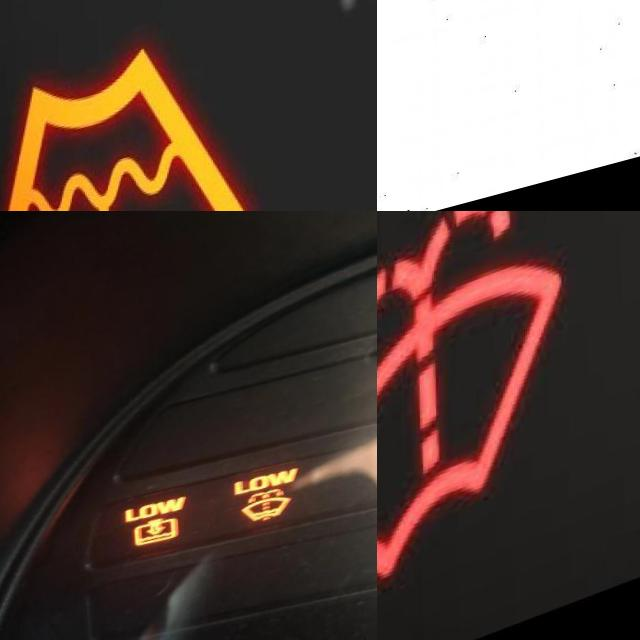Washer Fluid: (377, 211, 565, 604), (226, 499, 292, 551)
